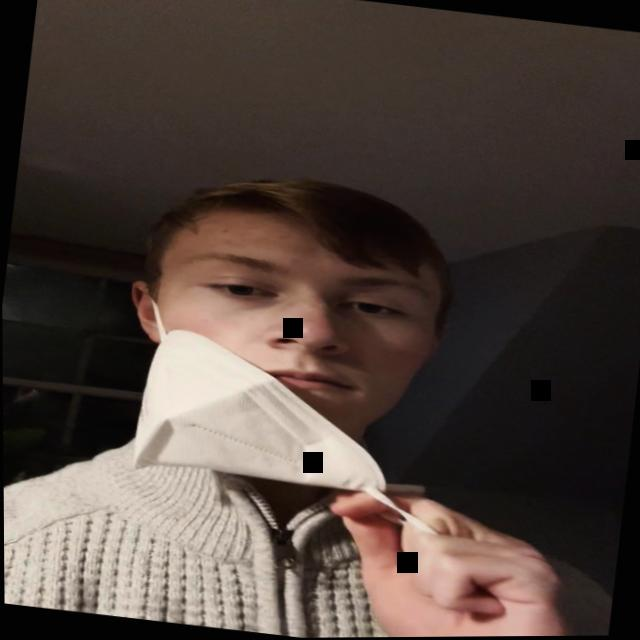NO-Mask: (84, 128, 490, 500)
